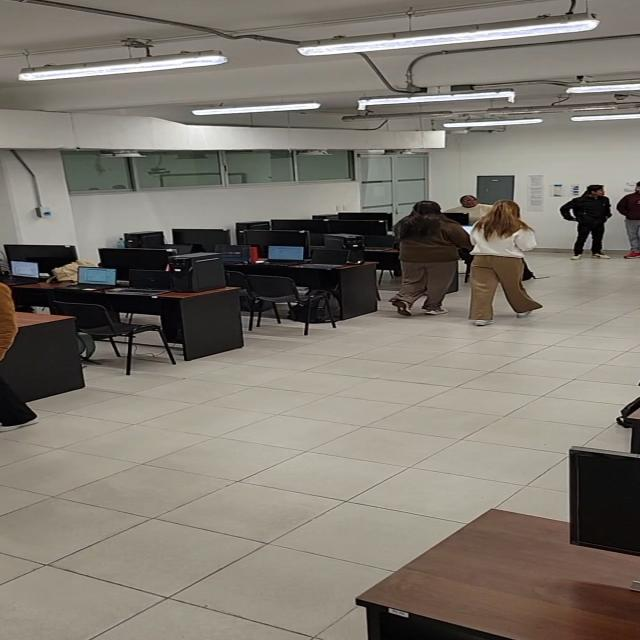Persona: (479, 200, 536, 321), (401, 203, 453, 313), (560, 184, 614, 260), (456, 193, 492, 217)
